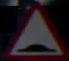Speed Breaker ahead: (12, 3, 61, 54)
